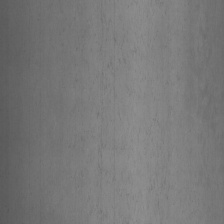silk_spot: (60, 3, 184, 201)
